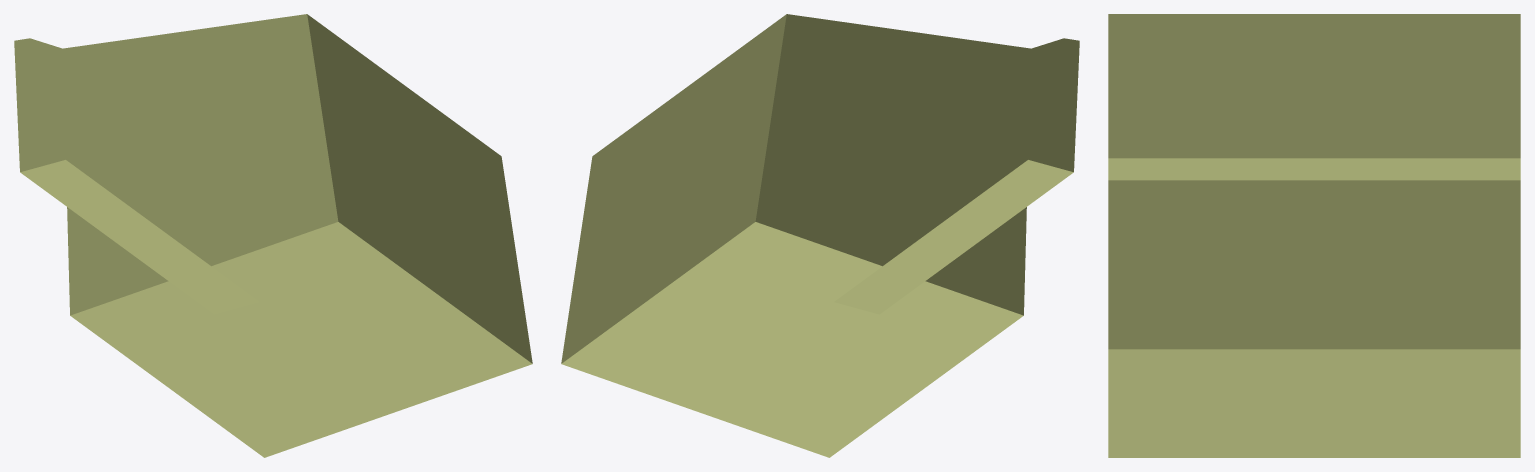
3 views of the same model, side by side, from view 1: azimuth 30°, elevation 25°; view 2: azimuth 150°, elevation 25°; view 3: azimuth 270°, elevation 25° (orthographic). The views are drawn at different scales.
Visible parts, largest first — view 1: 0_1_1_3_3_1_3_0_0_2_3; view 2: 0_1_1_3_3_1_3_0_0_2_3; view 3: 0_1_1_3_3_1_3_0_0_2_3.
Part boxes in pixels (<box>): 0_1_1_3_3_1_3_0_0_2_3: <box>14,14,532,457</box>; 0_1_1_3_3_1_3_0_0_2_3: <box>561,14,1079,457</box>; 0_1_1_3_3_1_3_0_0_2_3: <box>1108,14,1520,457</box>.
Bounding box in the file's own units: 8.67 × 7.37 × 9.
